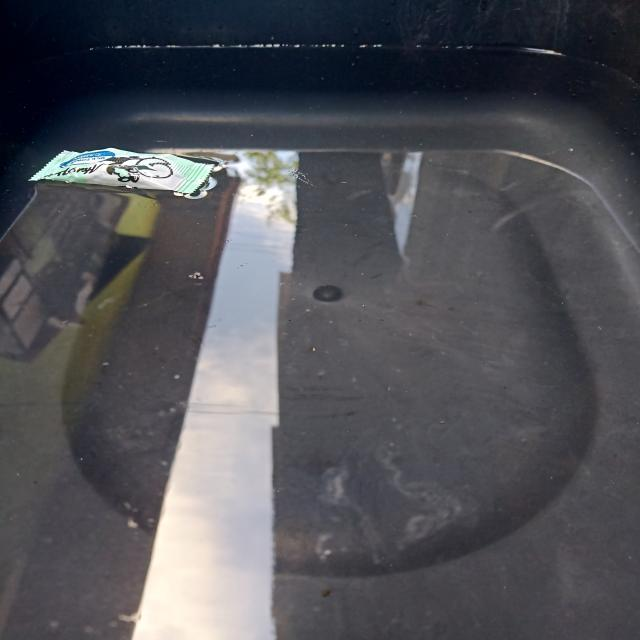Plastic Wrapper: (35, 144, 215, 202)
